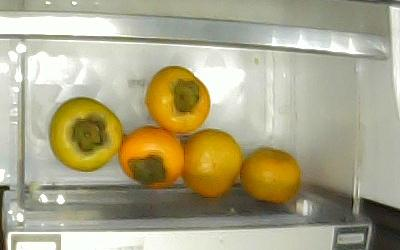persimmon: (47, 96, 123, 172), (144, 65, 211, 136), (179, 127, 243, 198), (116, 124, 184, 188), (239, 144, 301, 204)
